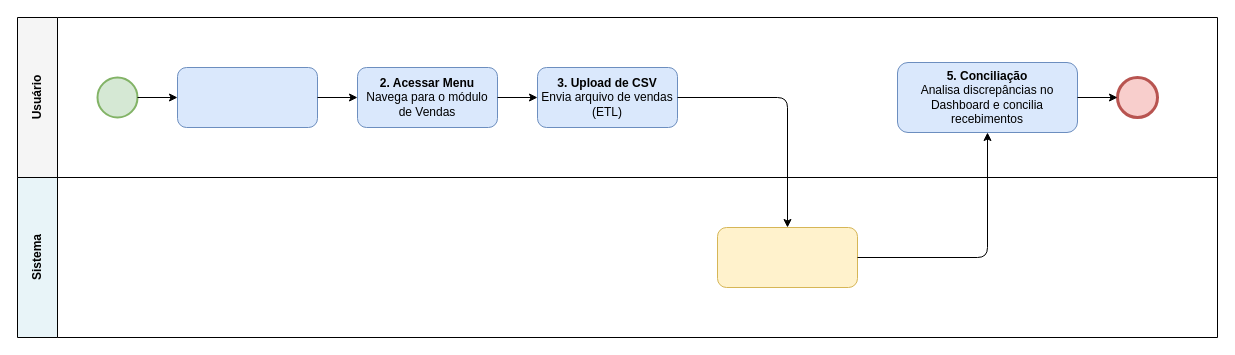
The diagram is 1235 pixels wide and 355 high, and some of its shapes have lost their labels. The shapes that lost their labels are listed below. From the top down, each one's centre as x and y in pixels, then its label:
point 247,97: 1. Fazer Login Usuário se autentica no sistema
point 787,257: 4. Calcular Taxas Processamento e cálculo automático de taxas
